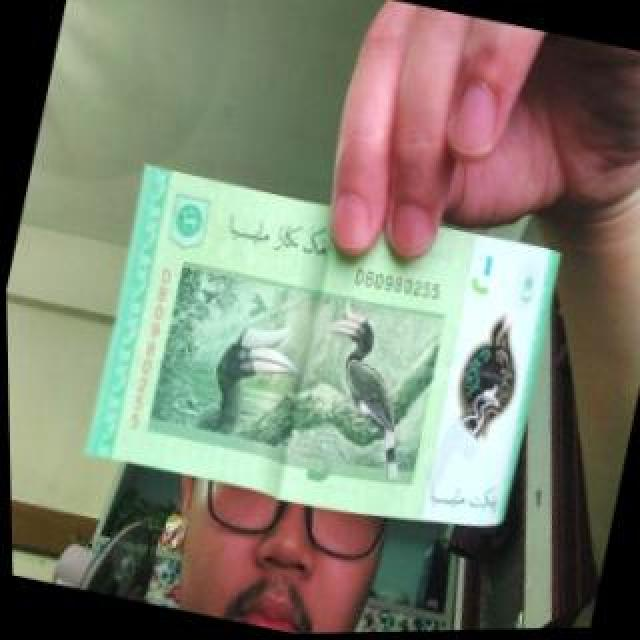5 Ringgit: (74, 158, 613, 569)
